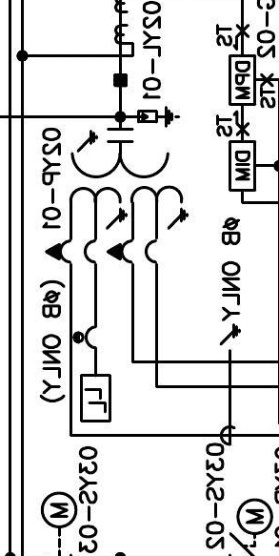115_cvt_1p: (44, 127, 190, 266)
115_la: (137, 105, 181, 128)
DIM: (228, 140, 257, 192)
DPM: (228, 54, 256, 106)
LL: (80, 374, 112, 423)
